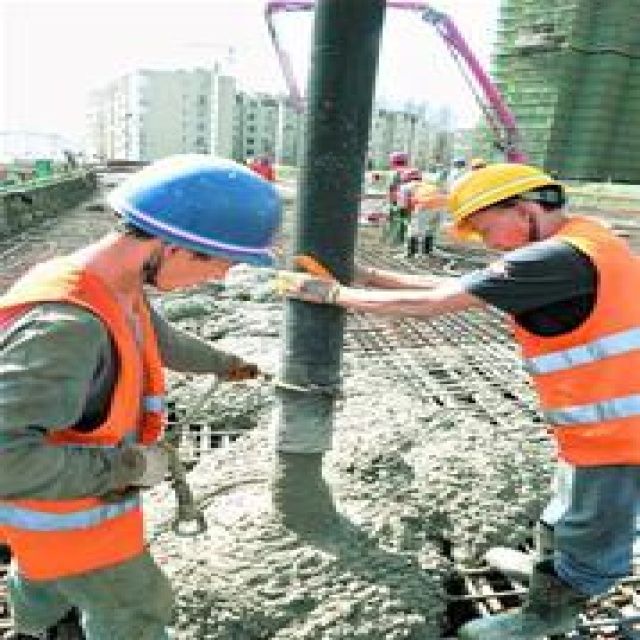Helmet: (100, 122, 304, 325), (433, 145, 592, 282)
Reflective vest: (1, 260, 174, 578), (496, 221, 640, 485)
